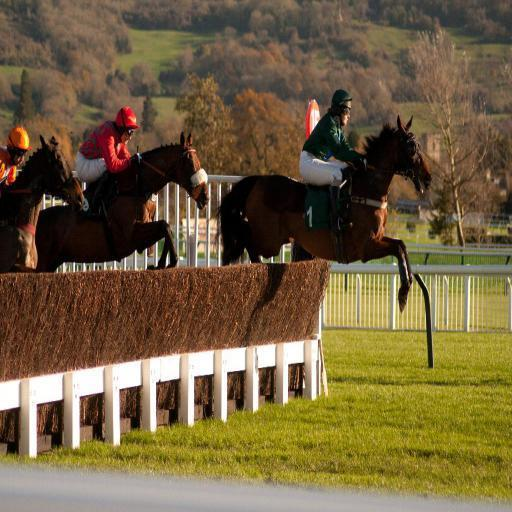horse: (206, 114, 434, 316), (34, 128, 211, 273), (0, 131, 86, 273)
